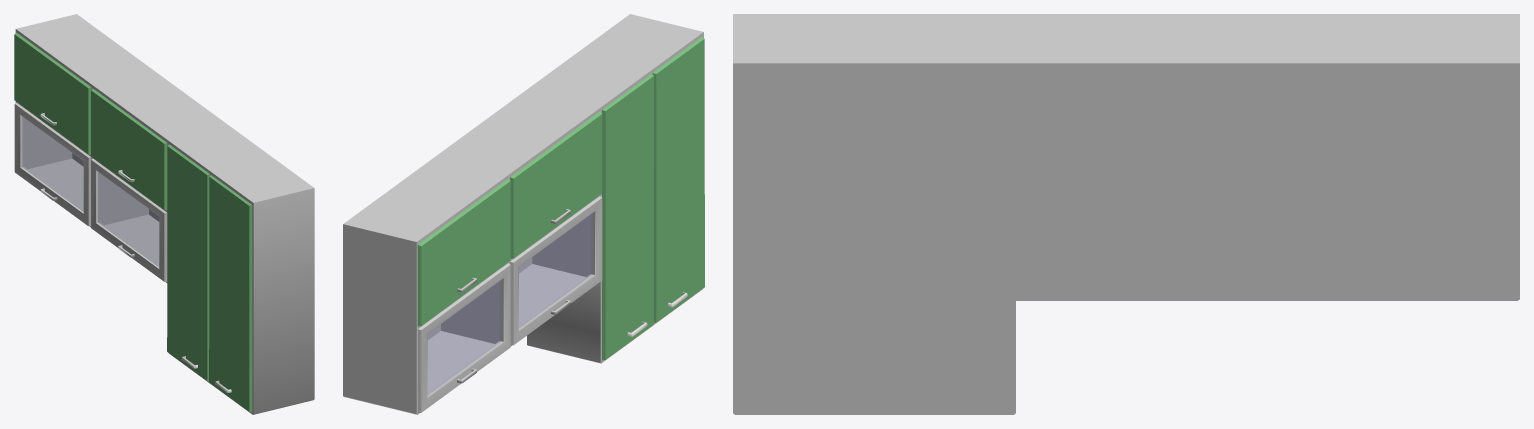
Rendered from HAIERZTKG0202.FBX.
3 views of the same model, side by side, from view 1: azimuth 30°, elevation 25°; view 2: azimuth 150°, elevation 25°; view 3: azimuth 270°, elevation 25° (orthographic). The views are drawn at different scales.
Visible parts, largest first — view 1: HAIERZTKG0202; view 2: HAIERZTKG0202; view 3: HAIERZTKG0202.
Part boxes in pixels (x1,y1,x2,y2): HAIERZTKG0202: [14, 14, 314, 414]; HAIERZTKG0202: [343, 14, 704, 414]; HAIERZTKG0202: [733, 14, 1519, 414].
Bounding box in the file's own units: 39.21 × 239 × 118.
